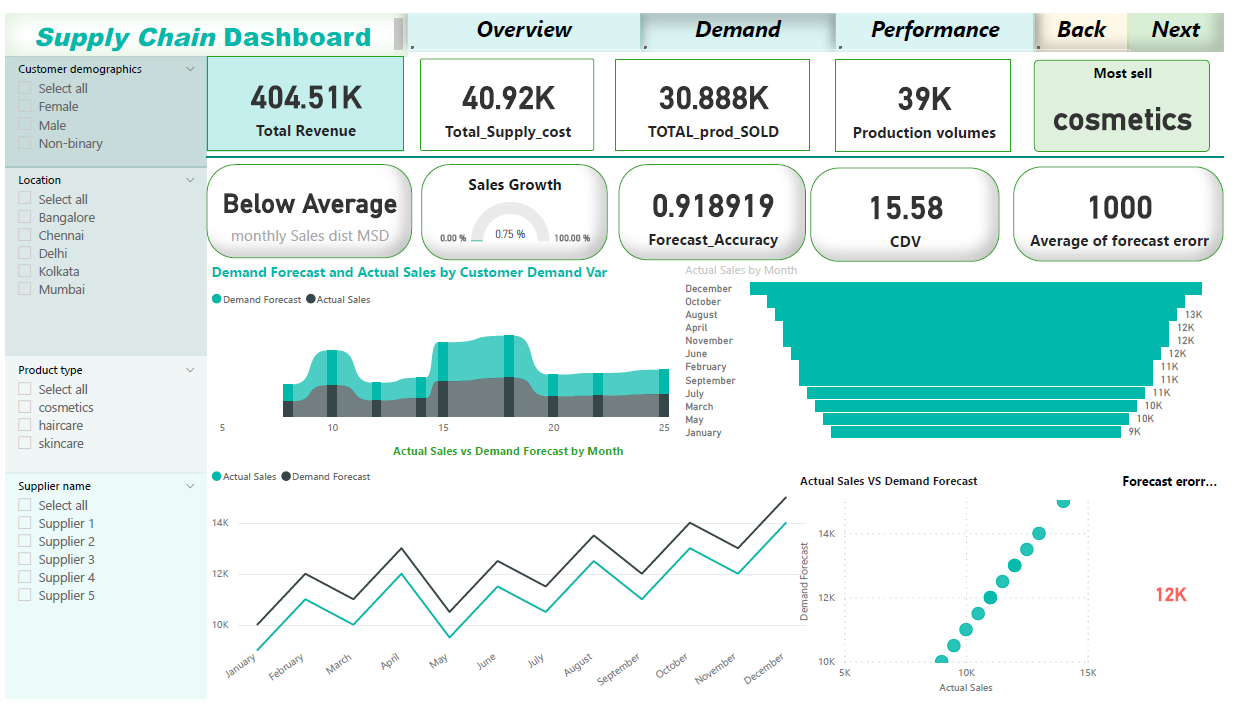

What the dashboard file says about the page in this screenshot:
{"tool":"powerbi","page":{"name":"Demand","canvas":[1280,720],"ordinal":1},"visuals":[{"type":"lineChart","title":"Actual Sales vs Demand Forecast by Month","fields":{"Y":["Sum(Demand.Actual Sales)","Sum(Demand.Demand Forecast)"],"Category":["Demand.Date.Variation.Date Hierarchy.Month","Demand.Date.Variation.Date Hierarchy.Day"]},"box":[211.4,451.4,634.3,268.6],"z":0},{"type":"card","title":"Forecast erorr Over time","fields":{"Values":["Sum(Demand.forecast erorr)"]},"box":[1168.9,482.9,111.1,237.3],"z":1000},{"type":"textbox","box":[0,0,421.7,45],"z":2000},{"type":"card","fields":{"Values":["processed_data.Total Revenue"]},"box":[211.4,44.3,207.1,100],"z":3000},{"type":"card","fields":{"Values":["Avg(Demand.forecast erorr)"]},"box":[1058.6,160,221.4,100],"z":4000},{"type":"card","fields":{"Values":["Sum(processed_data.Production volumes)"]},"box":[871.7,46.7,185,98.3],"z":5000},{"type":"card","fields":{"Values":["Measure.TOTAL SOLD"]},"box":[640,46.7,205,96.7],"z":6000},{"type":"card","title":"Most sell","fields":{"Values":["Min(processed_data.Product type)"]},"box":[1080,48.3,185,96.7],"z":7000},{"type":"gauge","fields":{"Y":["Measure.Sales Growth"]},"box":[437.1,158.6,195.7,101.4],"z":8000},{"type":"actionButton","title":"Next","box":[1180,0,100,40],"z":9000},{"type":"actionButton","title":"Back","box":[1080,0,100,40],"z":10000},{"type":"card","fields":{"Values":["Measure.CDV"]},"box":[845.7,161.4,198.6,98.6],"z":11000},{"type":"card","fields":{"Values":["Measure.Forecast_Accuracy"]},"box":[644.3,158.6,197.1,101.4],"z":12000},{"type":"card","fields":{"Values":["Measure.Total_Supply_cost"]},"box":[435,46.7,183.3,96.7],"z":13000},{"type":"slicer","fields":{"Values":["processed_data.Customer demographics"]},"box":[0,44.3,211.4,117.1],"z":14000},{"type":"slicer","fields":{"Values":["processed_data.Location"]},"box":[0,160,211.4,198.6],"z":15000},{"type":"slicer","fields":{"Values":["processed_data.Product type"]},"box":[0,360,211.4,122.9],"z":16000},{"type":"slicer","fields":{"Values":["processed_data.Supplier name"]},"box":[0,482.9,211.4,237.1],"z":17000},{"type":"actionButton","title":"Demand","box":[666.7,0,205,40],"z":18000},{"type":"actionButton","title":"Performance","box":[871.7,0,210,40],"z":19000},{"type":"actionButton","title":"Overview","box":[421.7,0,245,40],"z":21000},{"type":"card","fields":{"Values":["Measure.monthly Sales dist MSD"]},"box":[211.4,158.6,215.7,98.6],"z":22000},{"type":"scatterChart","title":"Actual Sales VS Demand Forecast ","fields":{"X":["Sum(Demand.Actual Sales)"],"Y":["Sum(Demand.Demand Forecast)"],"Category":["Demand.Date.Variation.Date Hierarchy.Month"]},"box":[830,482.9,321.4,237.1],"z":23000},{"type":"funnel","fields":{"Y":["Sum(Demand.Actual Sales)"],"Category":["Demand.Date.Variation.Date Hierarchy.Month"]},"box":[708.6,260,557.1,191.4],"z":24000},{"type":"ribbonChart","fields":{"Y":["Sum(Demand.Demand Forecast)","Sum(Demand.Actual Sales)"],"Category":["Demand.Customer Demand Var"]},"box":[211.3,260.7,496.6,190.7],"z":25000},{"type":"shape","box":[211.4,144.3,1068.6,11.4],"z":26000}]}

Visuals, with their boxes in screenshot pixels (x1, y1, x2, y2), scaled from the page's 1280x720 canvas onto the 1243x706 screenshot:
"Actual Sales vs Demand Forecast by Month" lineChart: 205/443/821/705
"Forecast erorr Over time" card: 1135/474/1242/705
textbox: 0/0/410/44
card - processed_data.Total Revenue: 205/43/406/141
card - Avg(Demand.forecast erorr): 1028/157/1242/255
card - Sum(processed_data.Production volumes): 847/46/1026/142
card - Measure.TOTAL SOLD: 622/46/821/141
"Most sell" card: 1049/47/1228/142
gauge - Measure.Sales Growth: 424/156/615/255
"Next" actionButton: 1146/0/1242/39
"Back" actionButton: 1049/0/1146/39
card - Measure.CDV: 821/158/1014/255
card - Measure.Forecast_Accuracy: 626/156/817/255
card - Measure.Total_Supply_cost: 422/46/600/141
slicer - processed_data.Customer demographics: 0/43/205/158
slicer - processed_data.Location: 0/157/205/352
slicer - processed_data.Product type: 0/353/205/474
slicer - processed_data.Supplier name: 0/474/205/705
"Demand" actionButton: 647/0/847/39
"Performance" actionButton: 847/0/1050/39
"Overview" actionButton: 410/0/647/39
card - Measure.monthly Sales dist MSD: 205/156/415/252
"Actual Sales VS Demand Forecast " scatterChart: 806/474/1118/705
funnel - Sum(Demand.Actual Sales) x Demand.Date.Variation.Date Hierarchy.Month: 688/255/1229/443
ribbonChart - Sum(Demand.Demand Forecast) x Sum(Demand.Actual Sales): 205/256/687/443
shape: 205/141/1242/153
